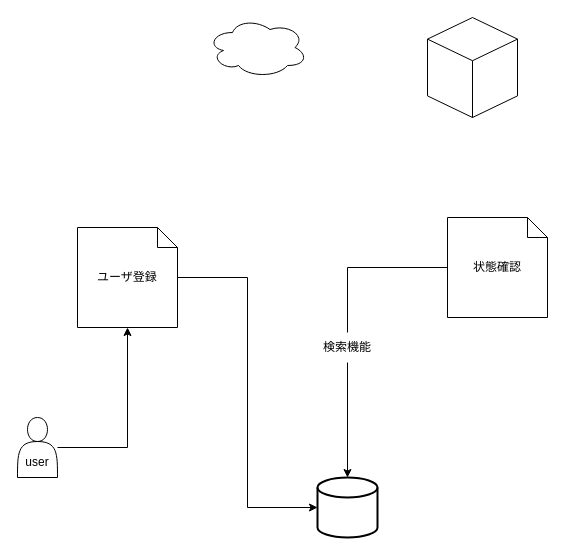
Some shapes in this 565 by 556 pixel diagram are drawn without their labels. Here are the shapes that lost their labels. From the top down, the box of each, then its label:
(206, 16, 308, 78): AWS
(316, 476, 378, 538): database
